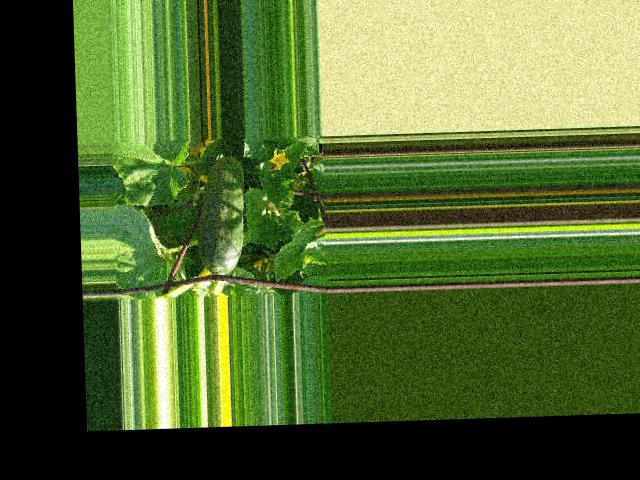cucumber: (193, 155, 246, 275)
